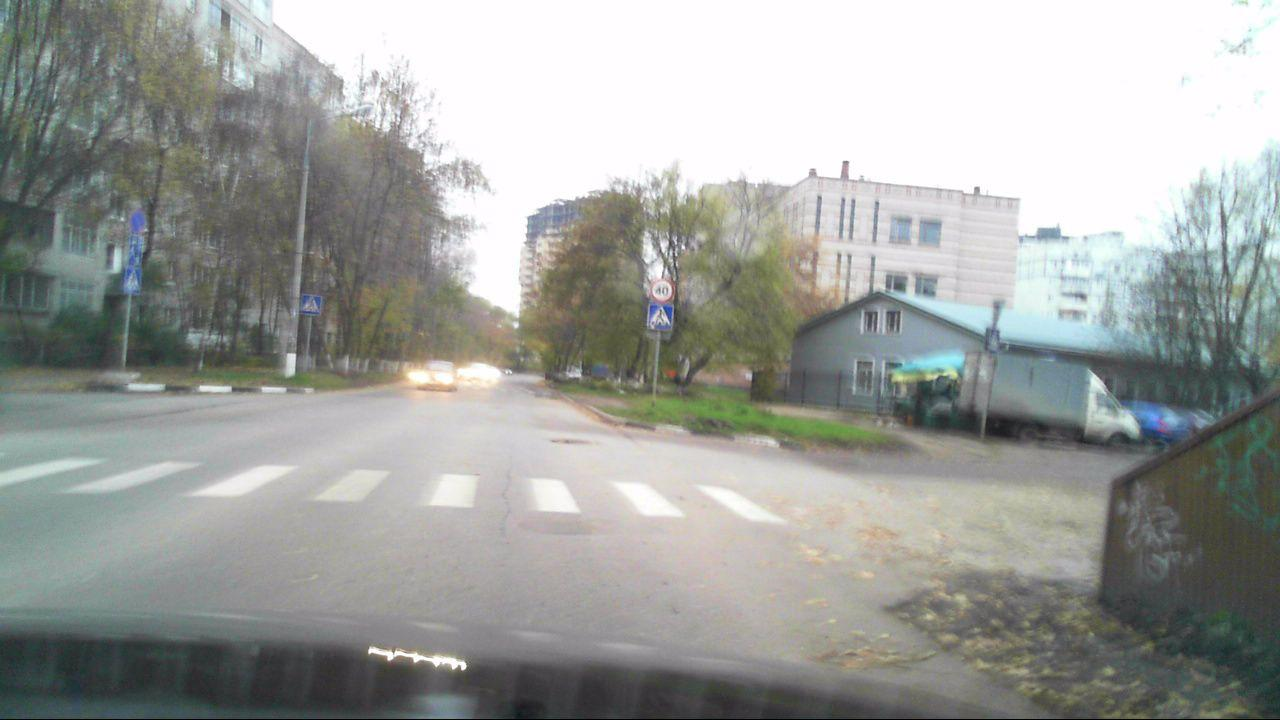3_24: (649, 280, 674, 303)
3_28: (126, 210, 147, 234)
5_19_1: (648, 304, 674, 332), (124, 268, 142, 293)
5_19_2: (302, 292, 322, 316)
5_21: (127, 237, 143, 263)
